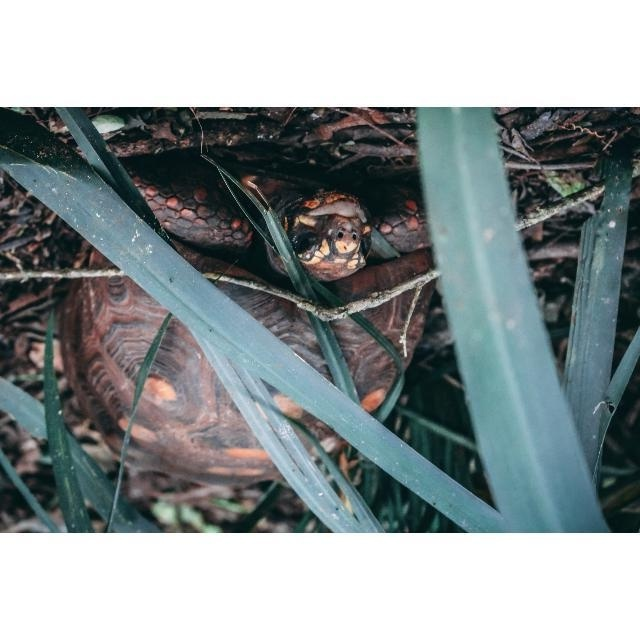turtle: (53, 167, 438, 486)
